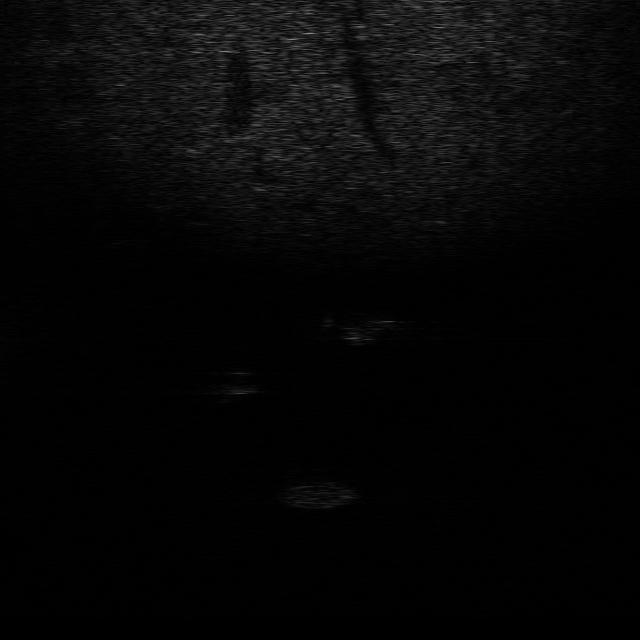ball: (210, 364, 266, 400)
circle cage: (278, 464, 362, 510)
human body: (314, 306, 410, 347)
